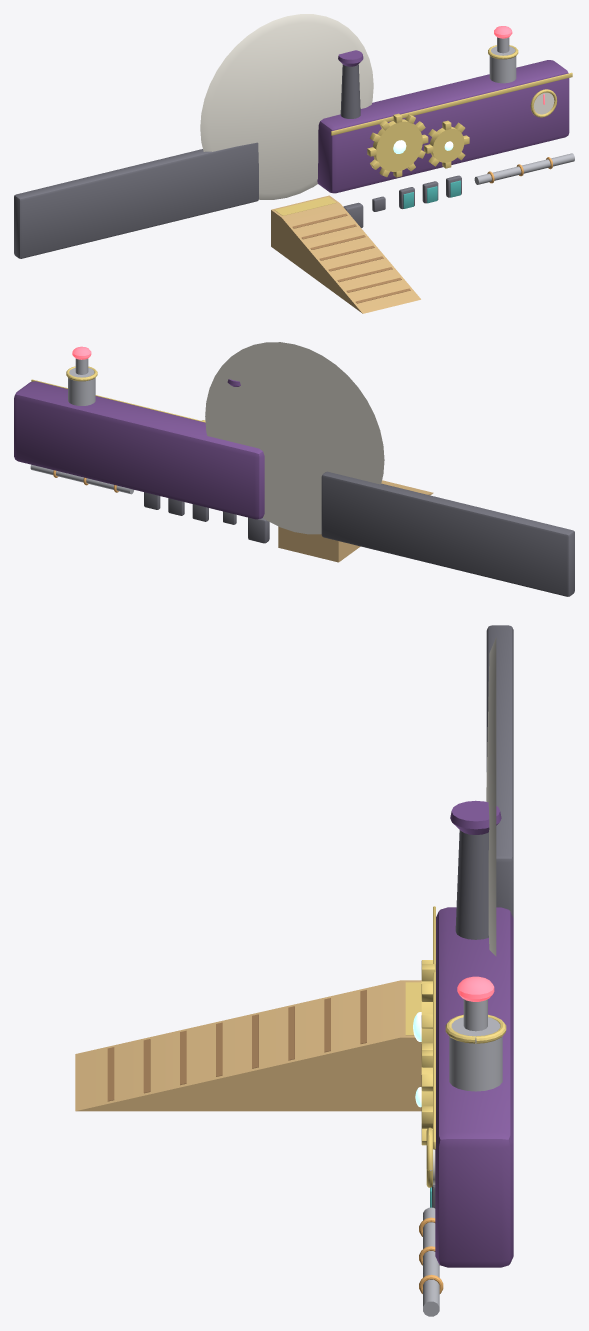
Rendered from ESC_HauntedBakery.fbx.
3 renders of one model, top to bottom at view 1: azimuth 30°, elevation 25°; view 2: azimuth 150°, elevation 25°; view 3: azimuth 270°, elevation 25°, orthographic. The views are drawn at different scales.
Parts seen in each view (by area): view 1: Body, Oven_Light, Ramp, Gear_A, Ramp_Treads, Gear_B; view 2: Body, Oven_Light, Ramp, Piston_Rod; view 3: Body, Ramp, Ramp_Treads, Oven_Light, Piston_Rod, Gear_A, Gear_B.
Boxes of the visible parts, bbox=[...] form: Body: bbox=[14, 45, 574, 258]; Oven_Light: bbox=[200, 14, 373, 199]; Ramp: bbox=[271, 195, 420, 313]; Gear_A: bbox=[367, 113, 428, 177]; Ramp_Treads: bbox=[275, 197, 410, 303]; Gear_B: bbox=[424, 120, 469, 168]; Body: bbox=[14, 366, 574, 596]; Oven_Light: bbox=[205, 342, 384, 534]; Ramp: bbox=[278, 480, 433, 562]; Piston_Rod: bbox=[72, 346, 91, 374]; Body: bbox=[419, 625, 513, 1316]; Ramp: bbox=[75, 980, 421, 1111]; Ramp_Treads: bbox=[107, 982, 421, 1101]; Oven_Light: bbox=[486, 637, 496, 956]; Piston_Rod: bbox=[457, 976, 494, 1031]; Gear_A: bbox=[413, 960, 435, 1048]; Gear_B: bbox=[415, 1049, 432, 1145].
Size of the model in its own units: 46.05 by 17.4 by 16.2.
